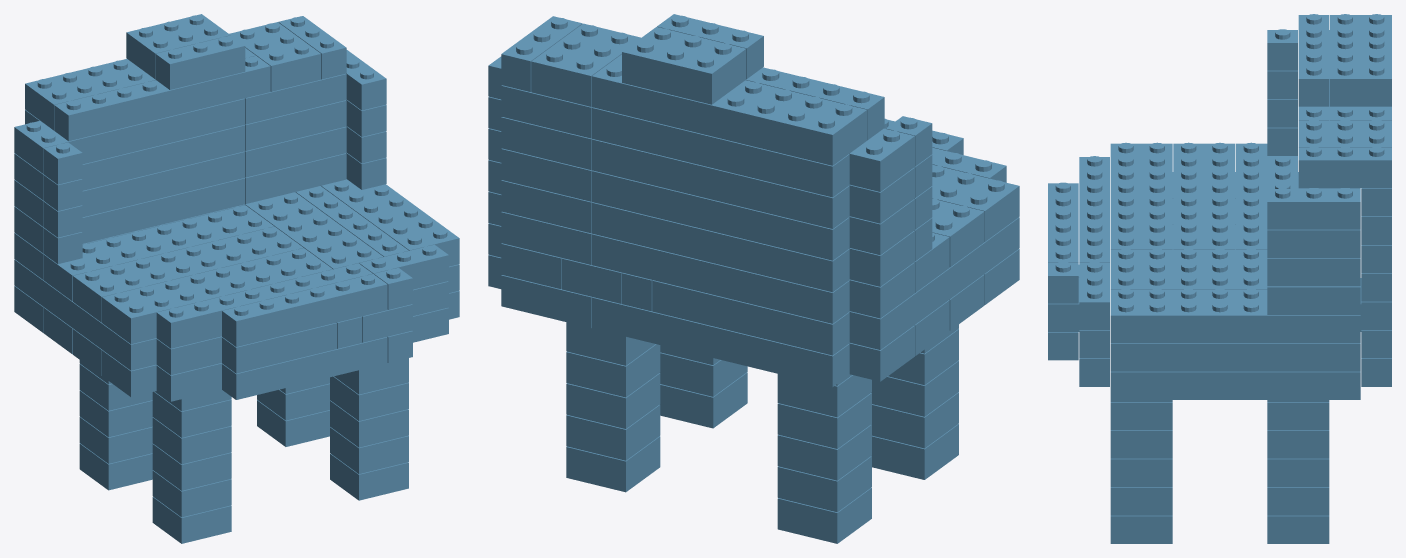
The model's file is 156_chair_L1.glb.
The picture shows the model from 3 angles, left to right: view 1: azimuth 30°, elevation 25°; view 2: azimuth 150°, elevation 25°; view 3: azimuth 270°, elevation 25°; orthographic projection. The views are drawn at different scales.
Bounding box in the file's own units: 12.98 × 15.13 × 10.98.
